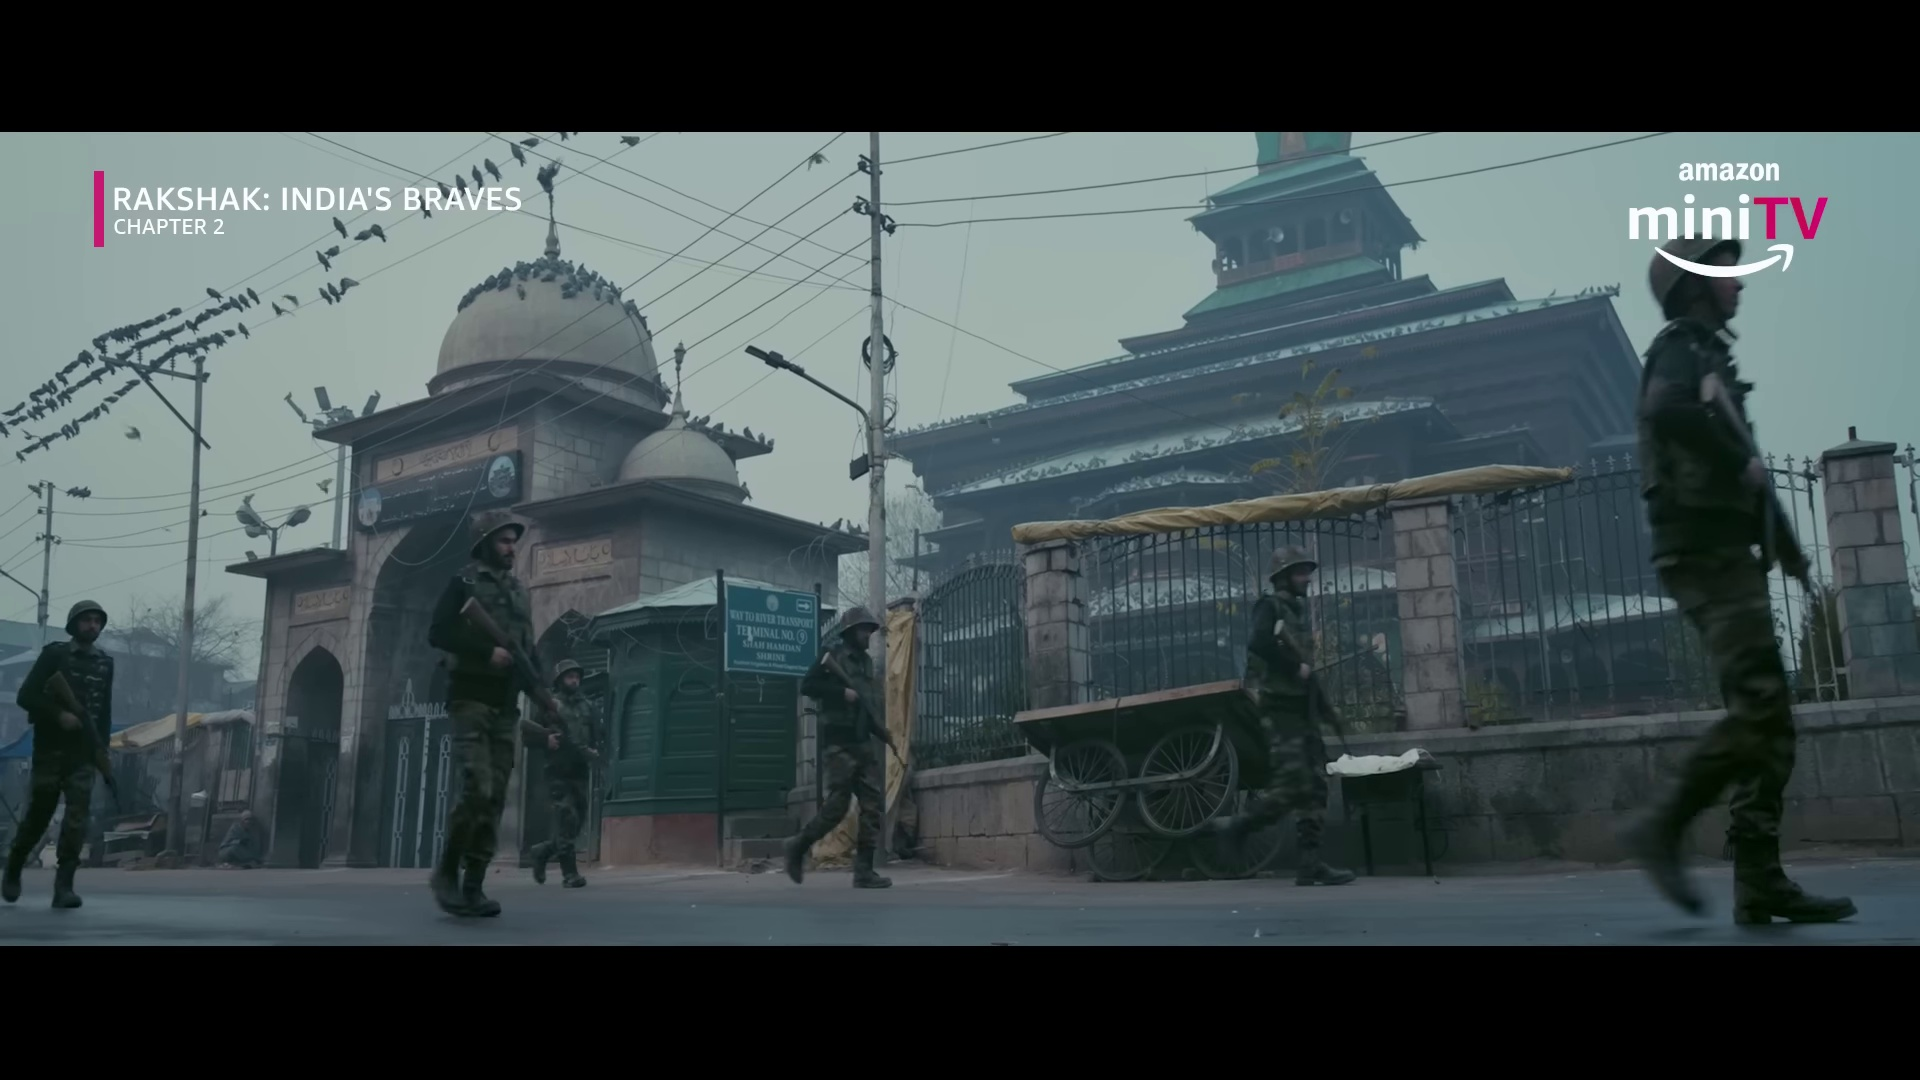gun: (1697, 367, 1824, 625), (459, 593, 560, 731), (1271, 615, 1353, 764), (45, 667, 124, 812), (818, 651, 909, 769), (520, 716, 600, 764)
p_w_gun: (1622, 222, 1858, 928), (423, 505, 568, 920), (1212, 542, 1356, 886), (0, 599, 127, 911), (787, 604, 909, 891), (517, 654, 604, 886)
